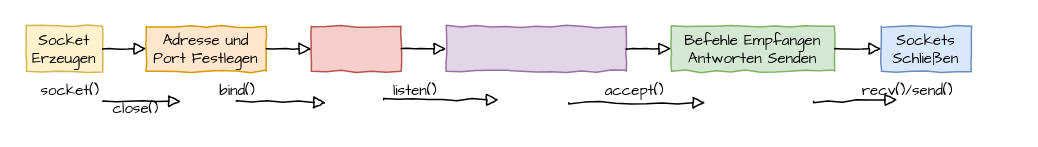
This 1038x147 diagram has some shape labels left out. The box of each missing label's shape, as (x1, y1, x2, y2) in pixels:
Server Aktivieren: (310, 25, 401, 71)
Verbindung Annehmen und Socket Erzeugen: (445, 25, 626, 71)
